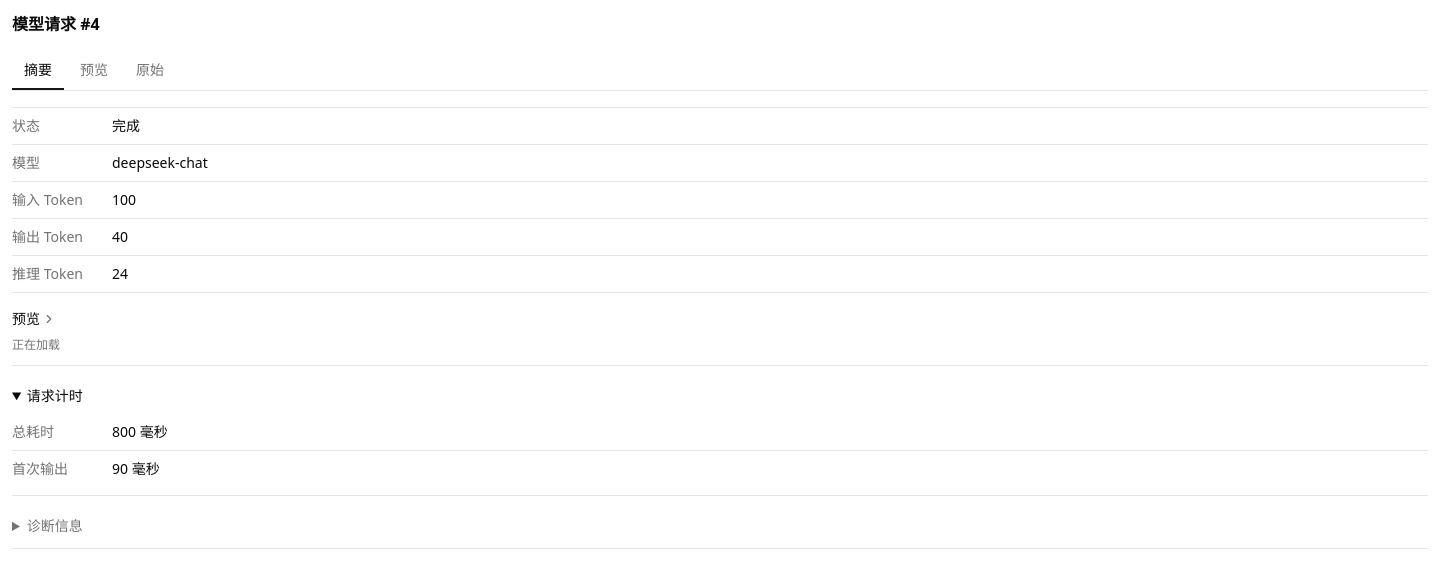
Test: TrajectoryNodeDetailPanel › 模型候选的 suppressed 处置独立于成功状态
Click the tab "预览". click: (94, 71)
box: top-left (68, 52), bottom-right (120, 90)
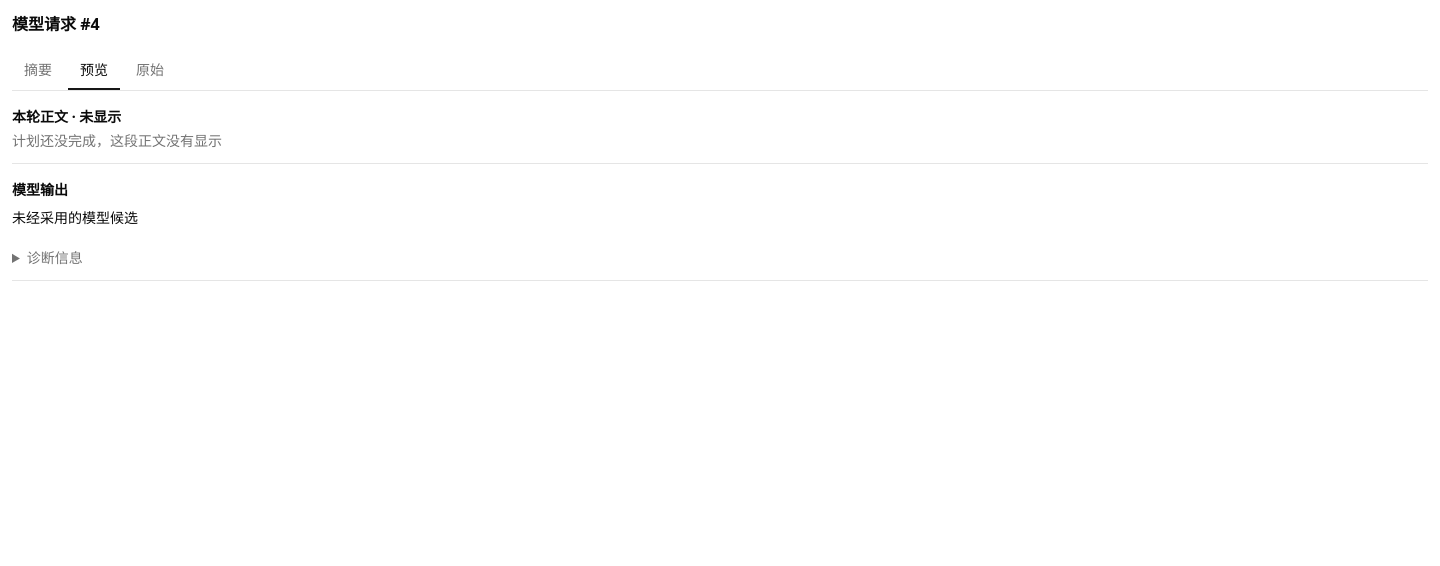
expect the heading "本轮正文 · 未显示" is shown: met, box top-left (12, 107), bottom-right (121, 126)
expect the text "计划还没完成，这段正文没有显示" is shown: met, box top-left (12, 131), bottom-right (222, 150)
expect the text "未经采用的模型候选" is shown: met, box top-left (12, 208), bottom-right (138, 227)
